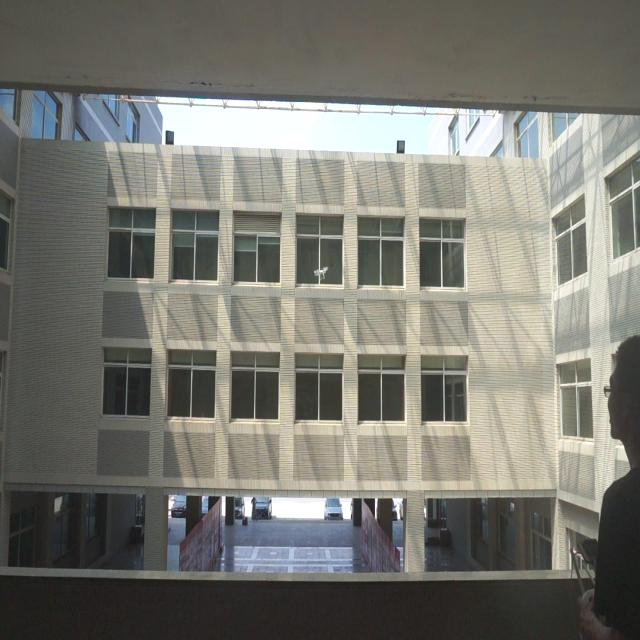drone: (314, 261, 329, 285)
